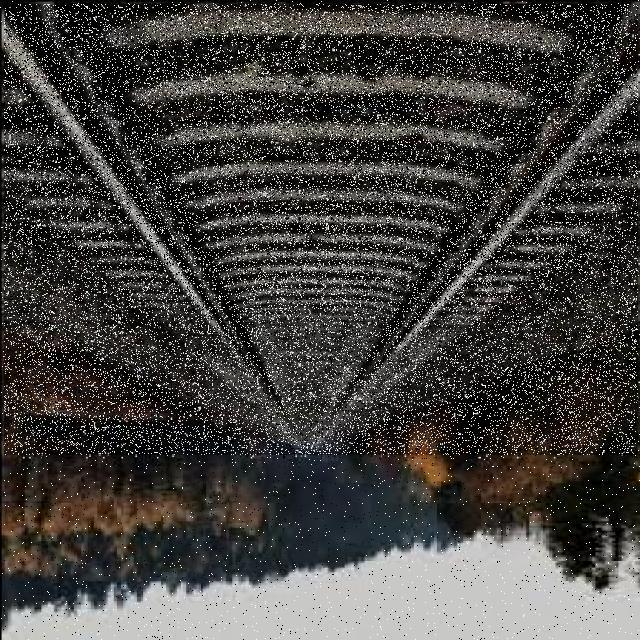rail: (5, 5, 639, 456)
